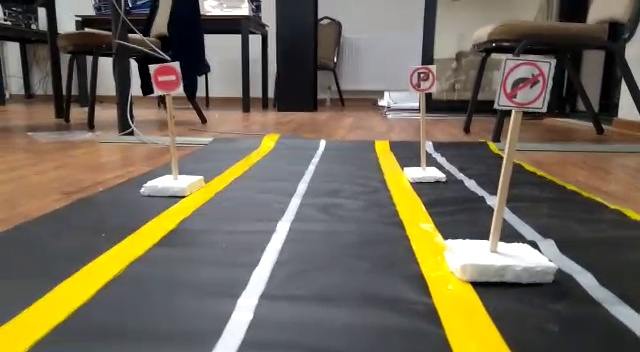girisi_olmayan_yol: (150, 63, 181, 94)
park_yapilmaz: (410, 65, 438, 94)
saga_donulmez: (496, 60, 548, 111)
